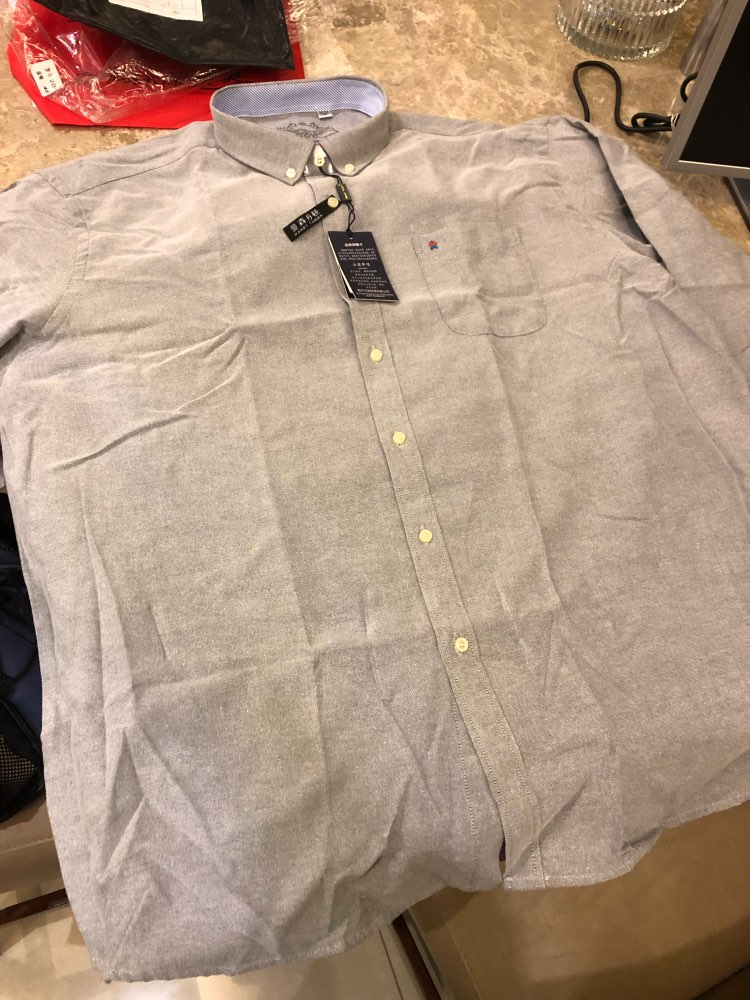shirts: (10, 77, 750, 970)
